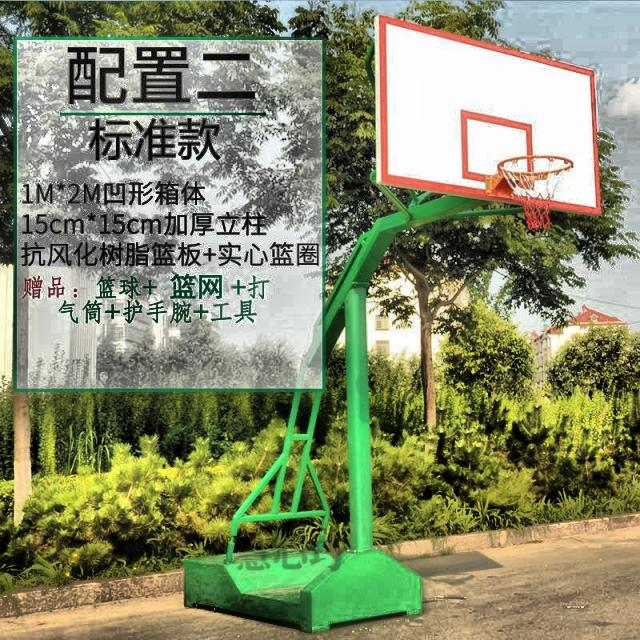rim: (497, 152, 574, 232)
